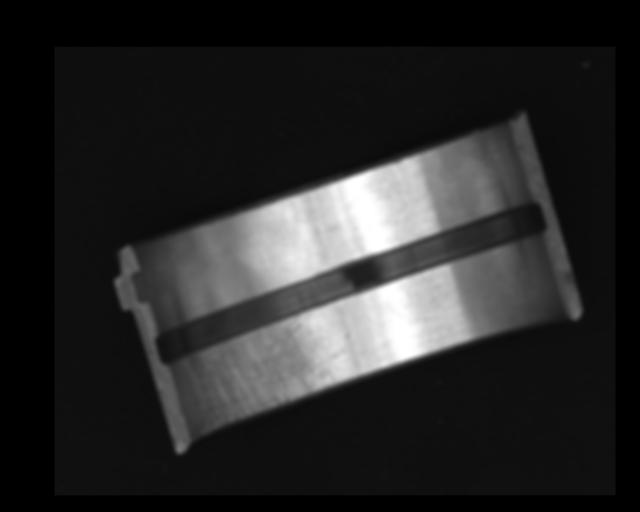gap: (155, 201, 547, 365)
scratch: (190, 307, 343, 431)
